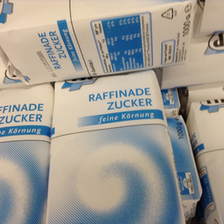sugar: (48, 69, 185, 224), (1, 1, 194, 85)
